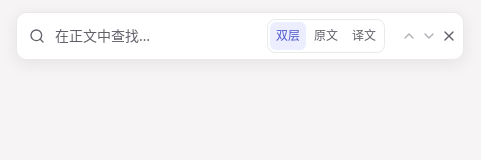
Test case: NEW-356 查找条范围选择 › 范围停在译文但译文层消失 → 自动回退双层
Expected: the element named "查找范围" is shown, x1=267 y1=19 x2=385 y2=53
Click the radio button labelled "译文".
click(364, 36)  # box x1=346 y1=22 x2=382 y2=50
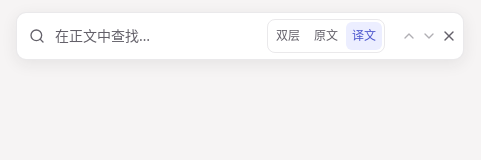
// 重渲染触发（state 变化：改查询触发 effect + memo 重算）
Type "craft" into the field named "查找正文".
click(159, 36); type("craft")  # box x1=55 y1=20 x2=263 y2=52
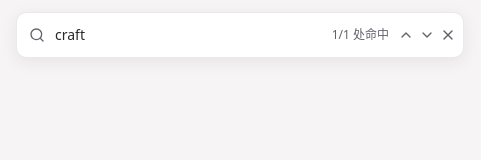
Expected: the element "查找范围" is gone
Expected: the text "1/1 处命中" is shown, x1=328 y1=27 x2=393 y2=43
